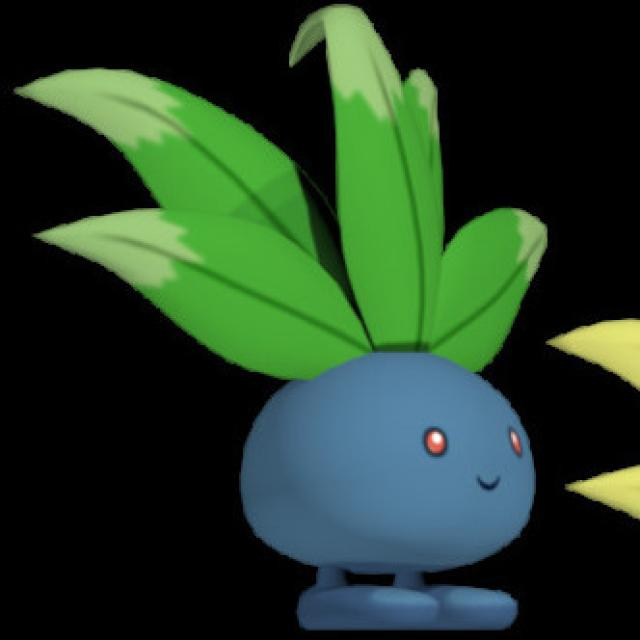Oddish: (193, 188, 555, 640)
